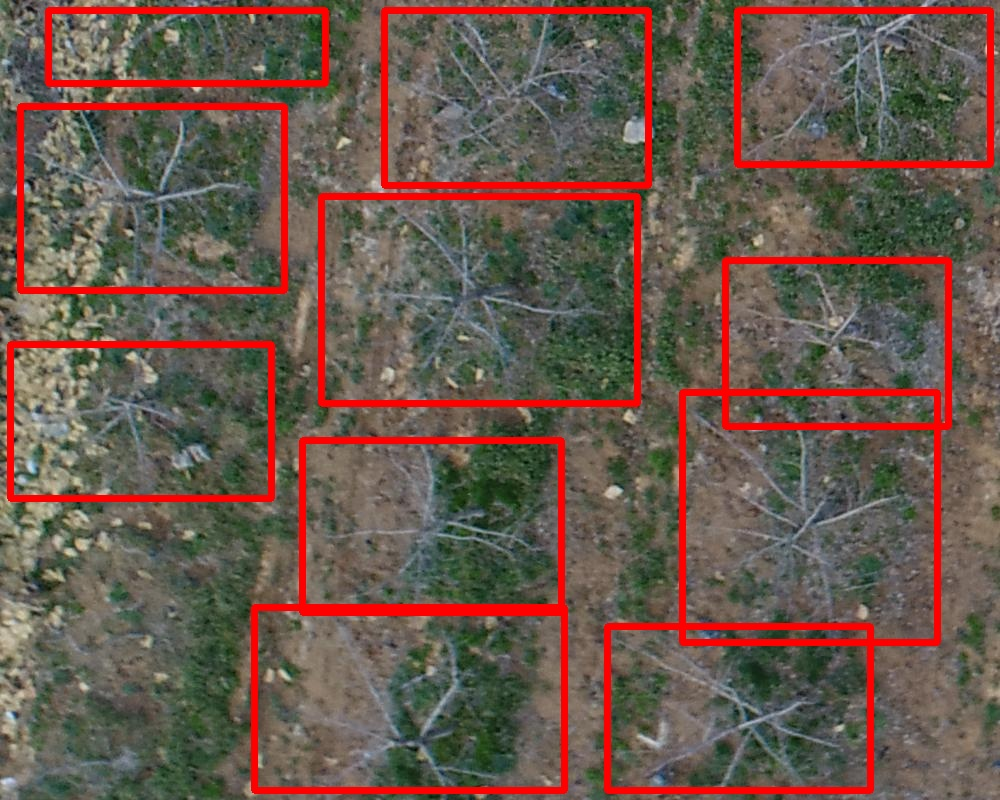apple: (321, 196, 637, 403), (682, 392, 937, 642), (254, 607, 564, 790), (20, 106, 284, 290), (384, 10, 648, 185), (302, 440, 561, 612), (607, 626, 870, 790), (10, 344, 271, 498), (737, 10, 990, 164), (725, 260, 948, 426), (48, 10, 325, 83)
